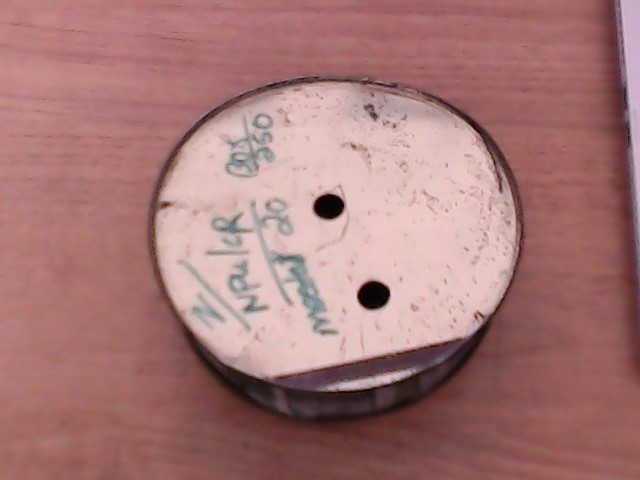Metal: (130, 65, 632, 480)
